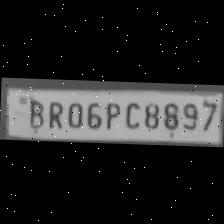0: (64, 99, 84, 128)
6: (84, 99, 103, 130)
7: (197, 98, 217, 132)
8: (158, 98, 180, 130), (140, 99, 162, 130)
9: (178, 99, 198, 130)
B: (23, 97, 44, 130)
C: (121, 98, 141, 130)
P: (102, 98, 120, 132)
R: (44, 97, 64, 130)
